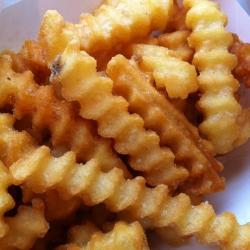fries: (16, 48, 203, 229)
